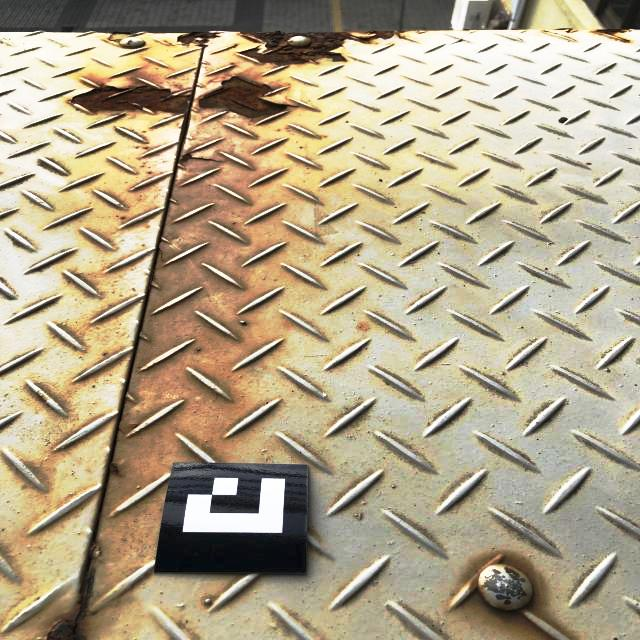Corrosion: (241, 31, 410, 65), (44, 560, 100, 640), (198, 75, 286, 117), (71, 84, 190, 113), (177, 31, 218, 46), (592, 29, 634, 42), (553, 28, 573, 34), (540, 31, 549, 33)
